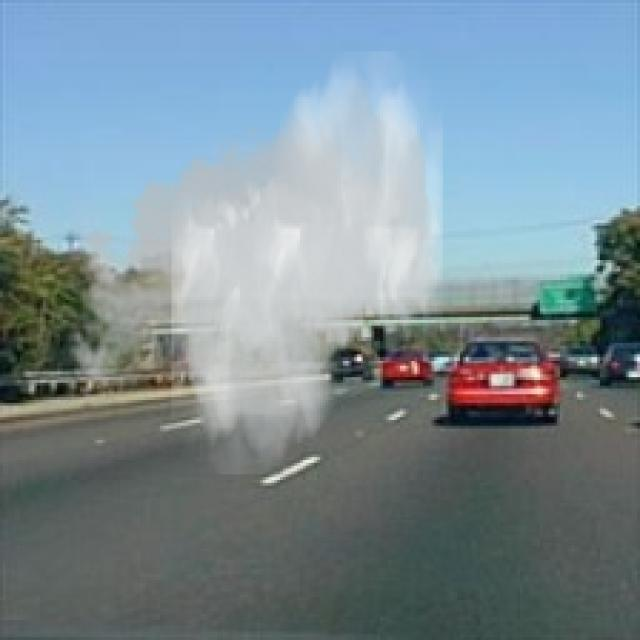smoke: (57, 52, 443, 474)
